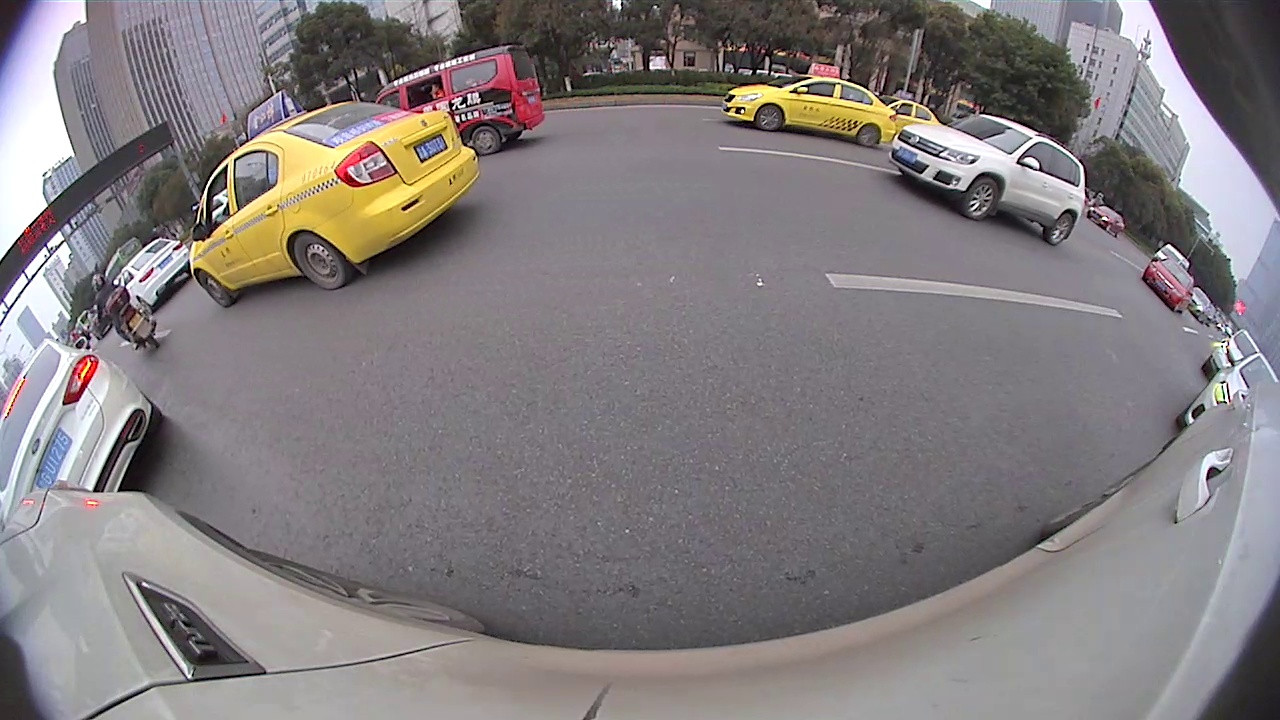car: (196, 93, 482, 313), (2, 341, 158, 509), (890, 115, 1086, 244), (378, 46, 546, 152), (724, 64, 893, 145), (1173, 354, 1277, 428), (113, 238, 193, 311), (1141, 257, 1193, 313)
front: (964, 177, 1000, 220), (198, 269, 235, 310), (756, 101, 786, 133)
rear: (292, 230, 348, 290), (471, 124, 503, 156), (1048, 213, 1076, 247), (859, 122, 882, 146)
rider: (93, 274, 160, 350)
